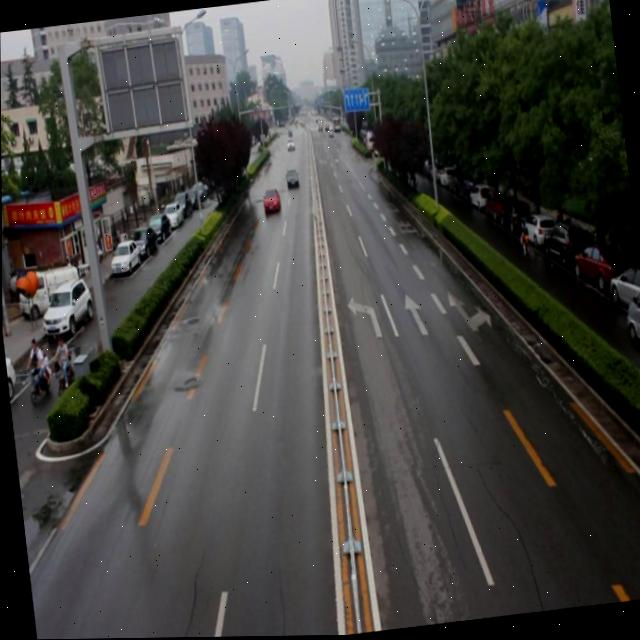car: (262, 187, 280, 215), (284, 166, 299, 190)
